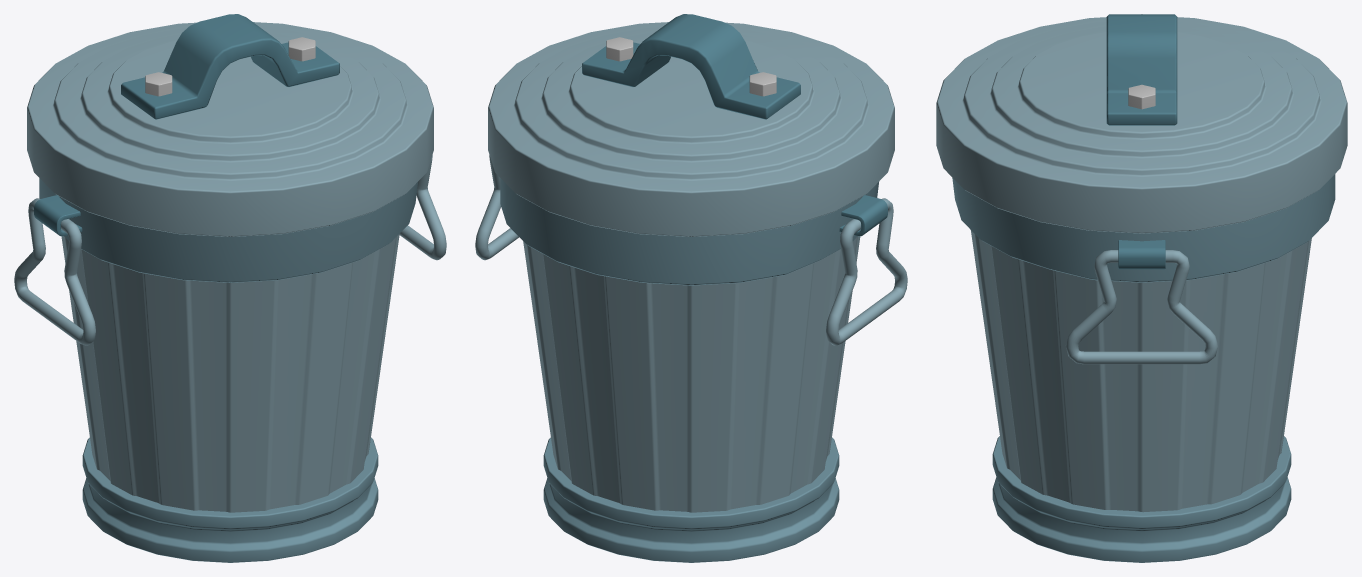
Rendered from City_1_Trash_Can_1.glb.
3 renders of one model, left to right at view 1: azimuth 30°, elevation 25°; view 2: azimuth 150°, elevation 25°; view 3: azimuth 270°, elevation 25°, orthographic.
Visible parts, largest first — view 1: City_1_Trash_Can_1; view 2: City_1_Trash_Can_1; view 3: City_1_Trash_Can_1.
Boxes of the visible parts, x1,y1,x2,y2 form: City_1_Trash_Can_1: (14, 14, 446, 562); City_1_Trash_Can_1: (475, 14, 907, 562); City_1_Trash_Can_1: (936, 14, 1347, 562).
Bounding box in the file's own units: 1.05 × 1.27 × 0.9966.
1 material, 1 textured.
